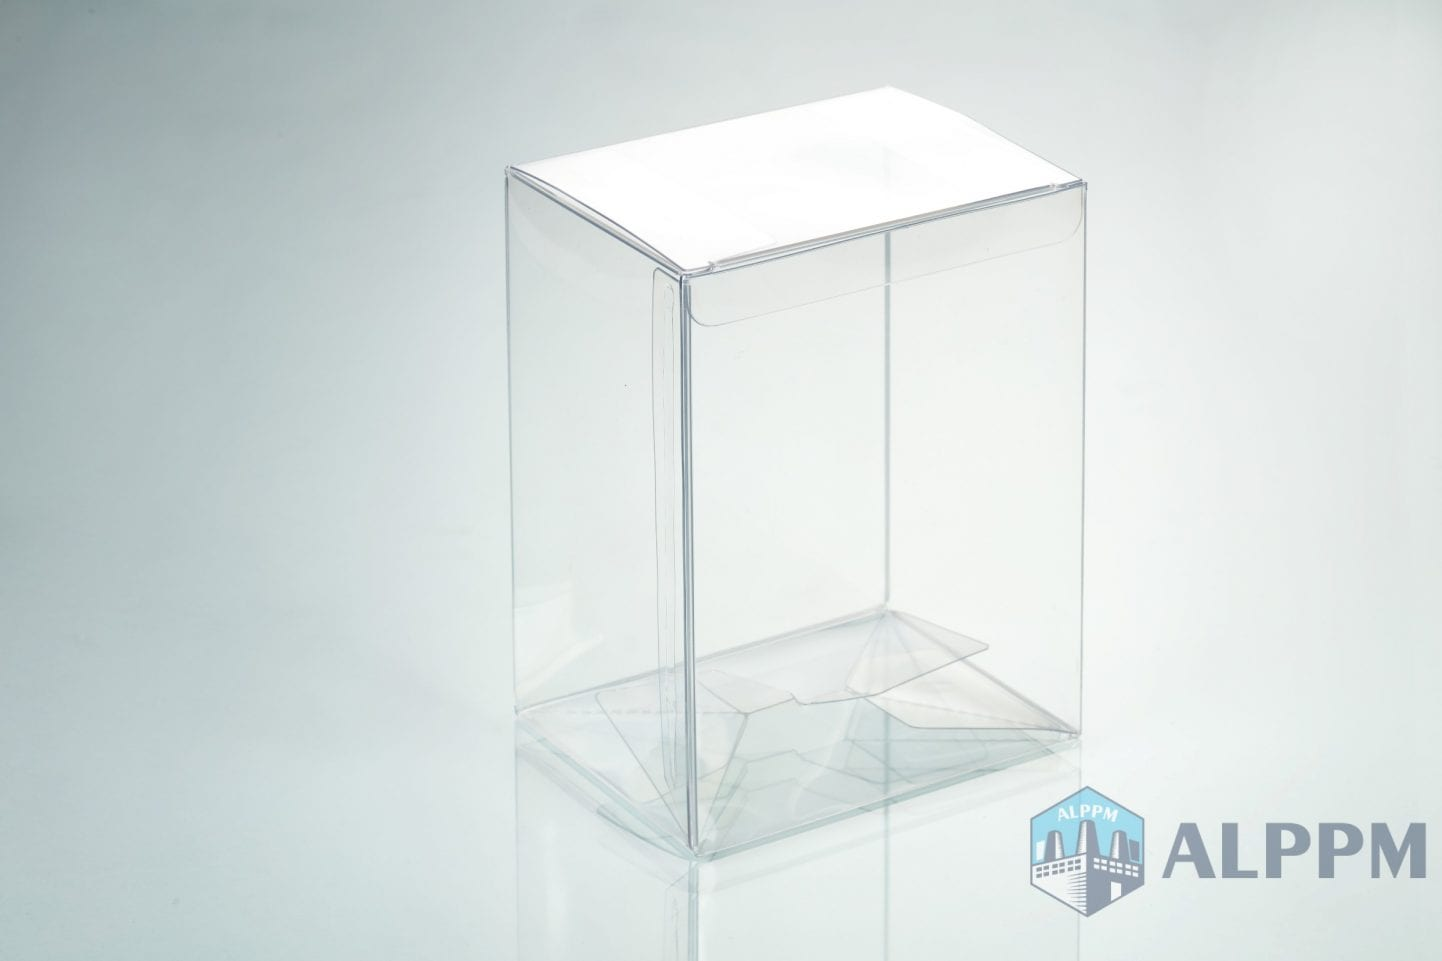PlasticBox: (491, 78, 1103, 904)
